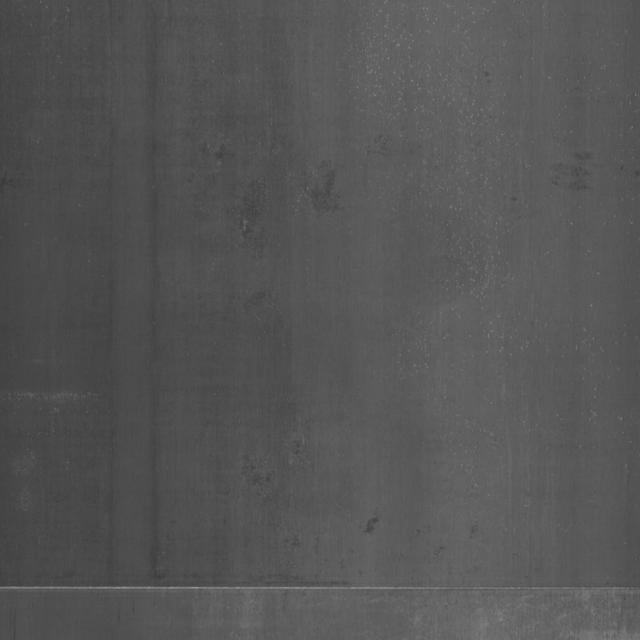crease: (7, 568, 639, 612)
